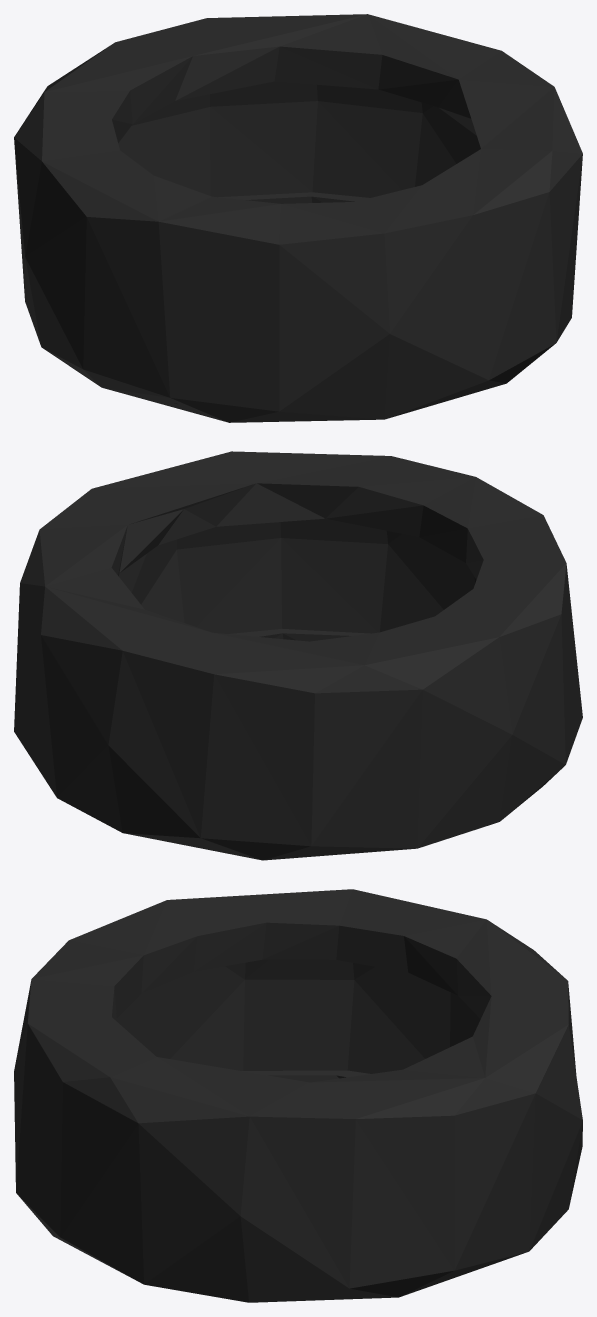
File: Wheel_01.fbx
3 renders of one model, top to bottom at view 1: azimuth 30°, elevation 25°; view 2: azimuth 150°, elevation 25°; view 3: azimuth 270°, elevation 25°, orthographic.
Visible parts, largest first — view 1: Wheel_01; view 2: Wheel_01; view 3: Wheel_01.
Part boxes in pixels (x1,y1,x2,y2): Wheel_01: (14,14,582,422); Wheel_01: (14,451,582,860); Wheel_01: (14,889,582,1302).
Bounding box in the file's own units: 83.68 × 31.72 × 83.68.
